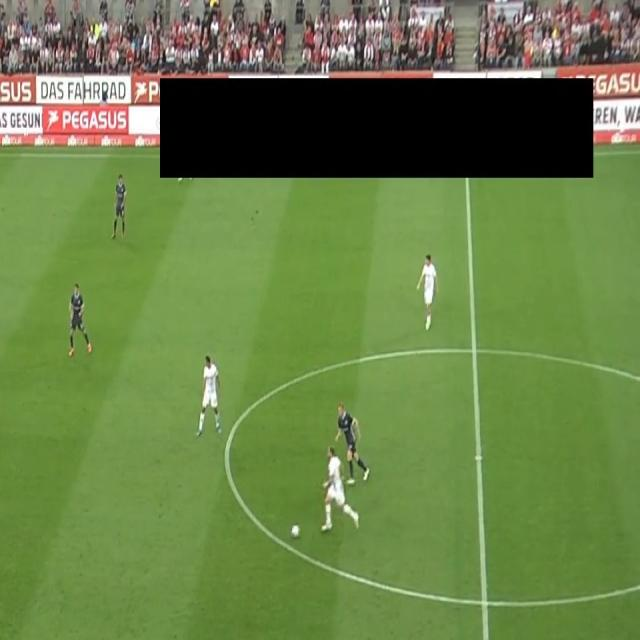ball: (290, 523, 302, 541)
